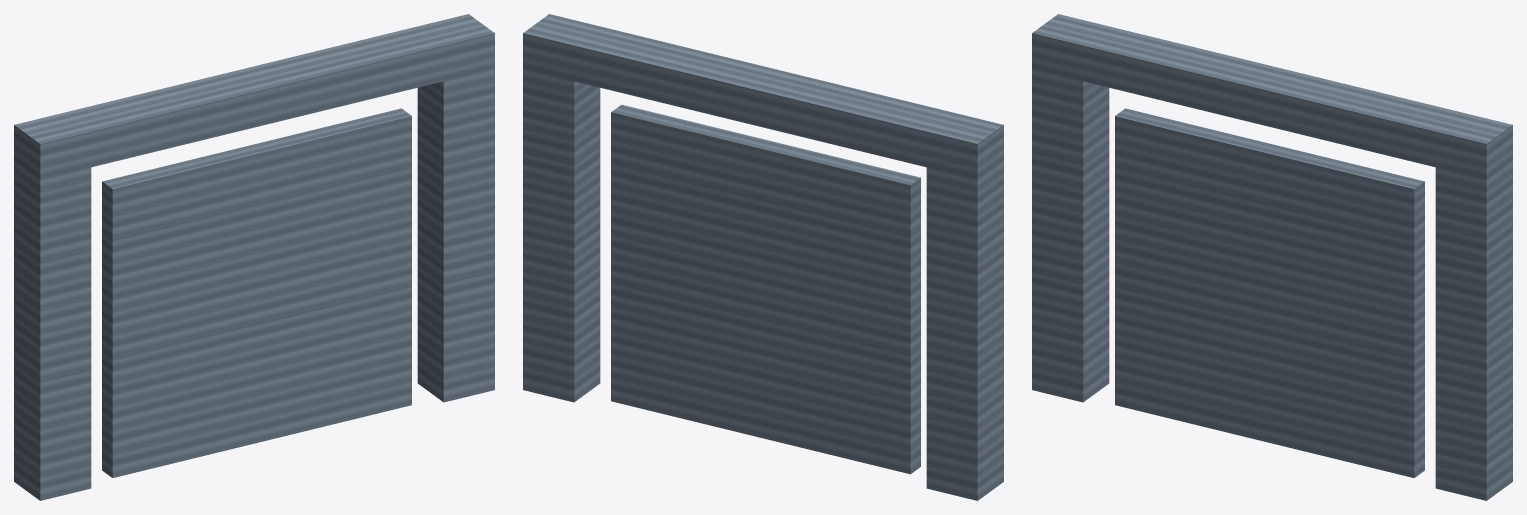
3 renders of one model, left to right at view 1: azimuth 30°, elevation 25°; view 2: azimuth 150°, elevation 25°; view 3: azimuth 330°, elevation 25°, orthographic.
Parts seen in each view (by area): view 1: door_warehouse_production_run001; view 2: door_warehouse_production_run001; view 3: door_warehouse_production_run001.
Part boxes in pixels (x1,y1,x2,y2): door_warehouse_production_run001: [14, 14, 494, 500]; door_warehouse_production_run001: [523, 14, 1003, 500]; door_warehouse_production_run001: [1032, 14, 1512, 500].
Bounding box in the file's own units: 4 × 3 × 0.4.
1 material, 1 textured.
